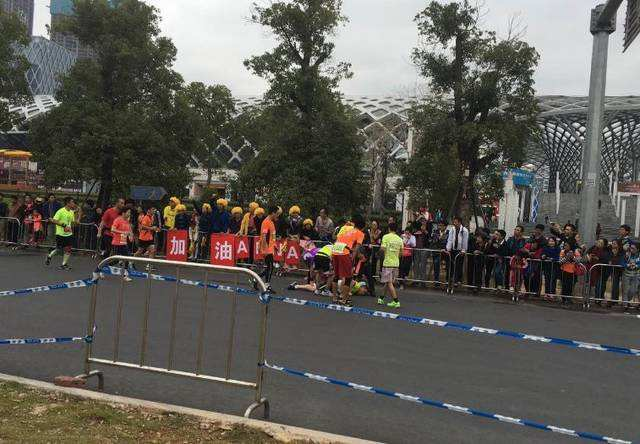10+: (1, 173, 639, 326)
down: (285, 271, 370, 299)
